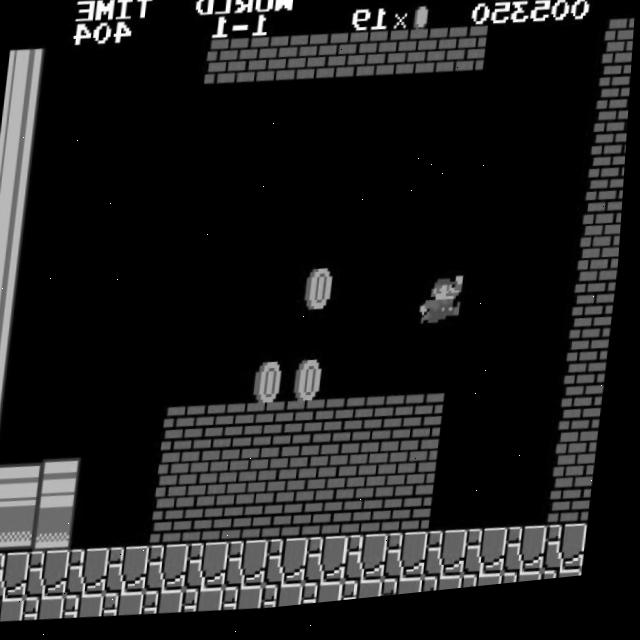1- brick_block: (396, 493, 442, 545), (356, 494, 402, 546), (364, 37, 410, 89), (321, 450, 367, 502), (281, 451, 327, 503), (276, 496, 322, 548), (241, 452, 287, 504), (444, 35, 490, 86), (404, 36, 450, 87), (361, 449, 407, 500), (316, 496, 362, 547), (324, 39, 370, 90), (284, 40, 330, 91), (202, 453, 247, 505), (197, 499, 242, 551), (157, 500, 202, 552), (405, 402, 451, 452), (286, 406, 332, 456), (246, 407, 292, 457), (570, 351, 615, 402), (401, 448, 446, 499), (366, 403, 411, 454), (326, 404, 371, 455), (237, 498, 282, 549), (245, 41, 290, 92), (205, 42, 250, 93), (162, 455, 207, 506), (575, 304, 619, 356), (556, 488, 600, 540), (579, 259, 624, 309), (207, 408, 252, 458), (167, 409, 212, 459), (566, 397, 610, 447), (561, 443, 605, 493), (585, 214, 626, 265), (589, 168, 628, 219), (594, 123, 631, 173), (599, 77, 633, 126), (603, 31, 636, 81)
11- little_mario: (423, 281, 472, 335)
14- pipe: (6, 47, 52, 99), (1, 93, 47, 144), (3, 459, 48, 511), (0, 505, 43, 556), (0, 139, 42, 190), (0, 185, 37, 236), (0, 231, 33, 282), (0, 277, 27, 327), (0, 322, 23, 373), (0, 368, 18, 419), (0, 414, 13, 464), (0, 460, 9, 510), (0, 506, 3, 556)
15- pipe_head: (42, 458, 88, 509), (38, 504, 83, 555)
17- undestructible_block: (431, 538, 477, 590), (391, 539, 437, 591), (152, 546, 198, 598), (471, 537, 517, 588), (351, 541, 397, 592), (311, 542, 357, 593), (112, 548, 158, 599), (192, 545, 237, 597), (73, 548, 118, 600), (511, 536, 556, 587), (272, 543, 317, 594), (232, 544, 277, 595), (33, 550, 78, 601), (551, 534, 595, 586), (0, 551, 38, 603), (150, 592, 193, 621), (110, 593, 153, 622), (70, 594, 113, 623), (30, 595, 73, 624), (229, 590, 273, 618), (190, 591, 233, 619), (269, 588, 313, 615), (309, 587, 353, 612), (348, 586, 391, 609), (0, 597, 33, 625), (388, 585, 431, 606), (428, 584, 471, 602), (468, 583, 511, 599), (508, 581, 551, 596), (549, 580, 591, 592)
2- coin: (300, 267, 346, 319), (291, 359, 336, 411), (251, 361, 296, 412)
